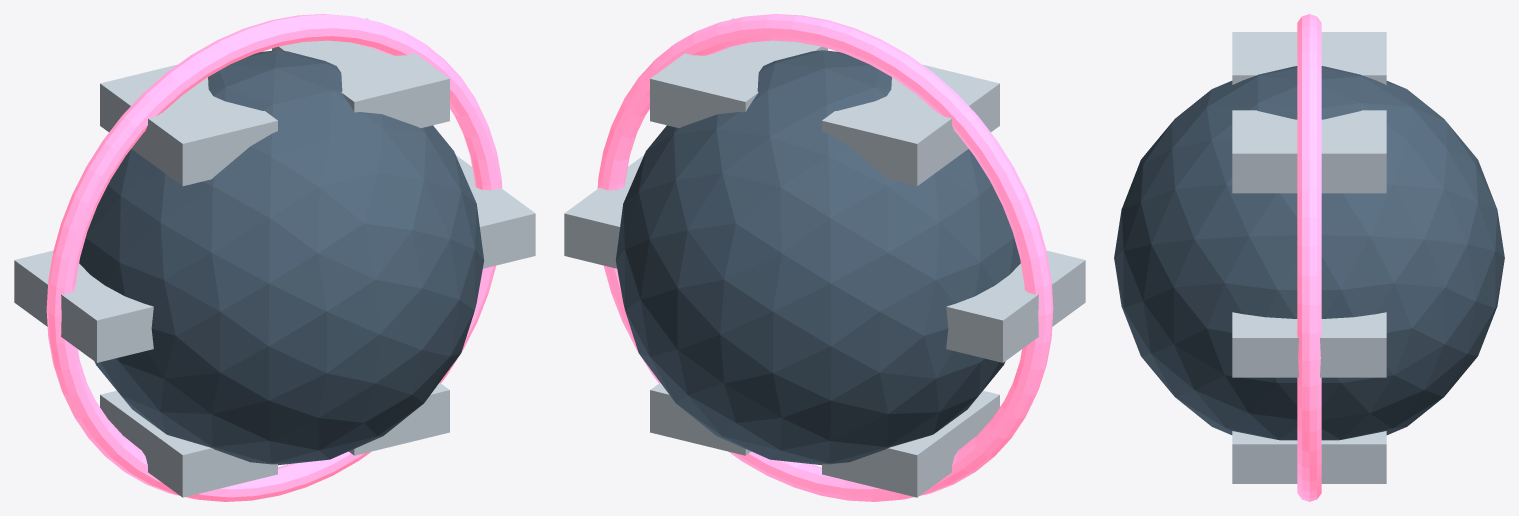
3 renders of one model, left to right at view 1: azimuth 30°, elevation 25°; view 2: azimuth 150°, elevation 25°; view 3: azimuth 270°, elevation 25°, orthographic. The views are drawn at different scales.
Visible parts, largest first — view 1: Core0, FieldRing8, Facet4, Facet5, Facet3, Facet6, Facet2, Facet7; view 2: Core0, FieldRing8, Facet4, Facet5, Facet3, Facet6, Facet2, Facet7; view 3: Core0, FieldRing8, Facet3, Facet2, Facet7, Facet4.
Part boxes in pixels (box(x1,y1,x2,y2)): Core0: box(79, 50, 484, 465); FieldRing8: box(46, 14, 502, 501); Facet4: box(100, 64, 277, 186); Facet5: box(14, 250, 153, 362); Facet3: box(272, 18, 449, 128); Facet6: box(100, 390, 277, 497); Facet2: box(456, 155, 535, 268); Facet7: box(349, 382, 449, 455); Core0: box(615, 50, 1020, 465); FieldRing8: box(597, 14, 1053, 501); Facet4: box(822, 64, 999, 186); Facet5: box(946, 250, 1085, 362); Facet3: box(650, 18, 827, 128); Facet6: box(822, 390, 999, 497); Facet2: box(564, 155, 643, 268); Facet7: box(650, 382, 750, 455); Core0: box(1114, 66, 1504, 440); FieldRing8: box(1297, 14, 1321, 501); Facet3: box(1232, 110, 1386, 193); Facet2: box(1232, 312, 1386, 377); Facet7: box(1232, 431, 1386, 483); Facet4: box(1232, 32, 1386, 84).
Size of the model in its own units: 1.9 by 1.9 by 1.52.
